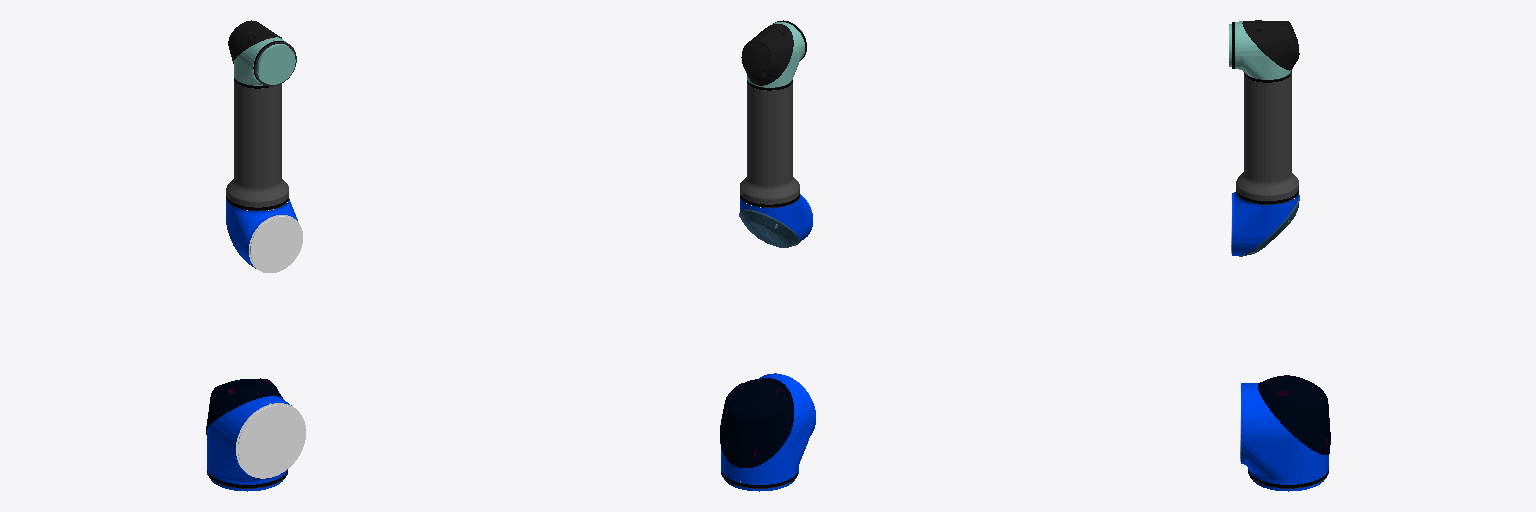
robot.urdf — rb16_900e_u:
<?xml version="1.0" ?>
<!-- =================================================================================== -->
<!-- |    This document was autogenerated by xacro from rb16_900e_u.urdf.xacro         | -->
<!-- |    EDITING THIS FILE BY HAND IS NOT RECOMMENDED                                 | -->
<!-- =================================================================================== -->
<robot name="rb16_900e_u">
  <link name="link0">
    <visual>
      <geometry>
        <mesh filename="package://rbpodo_description/meshes/rb16_900e_u/visual/link0.dae"/>
      </geometry>
    </visual>
    <collision>
      <geometry>
        <mesh filename="package://rbpodo_description/meshes/rb16_900e_u/collision/link0.stl"/>
      </geometry>
    </collision>
  </link>
  <link name="link1">
    <visual>
      <geometry>
        <mesh filename="package://rbpodo_description/meshes/rb16_900e_u/visual/link1.dae"/>
      </geometry>
    </visual>
    <collision>
      <geometry>
        <mesh filename="package://rbpodo_description/meshes/rb16_900e_u/collision/link1.stl"/>
      </geometry>
    </collision>
    <inertial>
      <origin rpy="0 0 0" xyz="0.00002146 -0.00785669 -0.04254277"/>
      <mass value="8.36480574"/>
      <inertia ixx="0.027396" ixy="-5.93e-06" ixz="-1.012e-05" iyy="0.02776248" iyz="0.00302947" izz="0.02613526"/>
    </inertial>
  </link>
  <link name="link2">
    <visual>
      <geometry>
        <mesh filename="package://rbpodo_description/meshes/rb16_900e_u/visual/link2.dae"/>
      </geometry>
    </visual>
    <collision>
      <geometry>
        <mesh filename="package://rbpodo_description/meshes/rb16_900e_u/collision/link2.stl"/>
      </geometry>
    </collision>
    <inertial>
      <origin rpy="0 0 0" xyz="-0.00001365 -0.15336597 0.14954192"/>
      <mass value="14.65108225"/>
      <inertia ixx="0.50968149" ixy="-1.346e-05" ixz="-5.604e-05" iyy="0.50447767" iyz="0.01549891" izz="0.0467351"/>
    </inertial>
  </link>
  <link name="link3">
    <visual>
      <geometry>
        <mesh filename="package://rbpodo_description/meshes/rb16_900e_u/visual/link3.dae"/>
      </geometry>
    </visual>
    <collision>
      <geometry>
        <mesh filename="package://rbpodo_description/meshes/rb16_900e_u/collision/link3.stl"/>
      </geometry>
    </collision>
    <inertial>
      <origin rpy="0 0 0" xyz="-0.00005454 0.13556427 0.21690278"/>
      <mass value="4.99600074"/>
      <inertia ixx="0.1196272" ixy="9.83e-06" ixz="2.67e-06" iyy="0.1190238" iyz="0.00299228" izz="0.00997462"/>
    </inertial>
  </link>
  <link name="link4">
    <visual>
      <geometry>
        <mesh filename="package://rbpodo_description/meshes/rb16_900e_u/visual/link4.dae"/>
      </geometry>
    </visual>
    <collision>
      <geometry>
        <mesh filename="package://rbpodo_description/meshes/rb16_900e_u/collision/link4.stl"/>
      </geometry>
    </collision>
    <inertial>
      <origin rpy="0 0 0" xyz="0.00009393 -0.11397578 0.02631456"/>
      <mass value="2.04897826"/>
      <inertia ixx="0.00268283" ixy="-8.03e-06" ixz="1.118e-05" iyy="0.00268757" iyz="0.0001404" izz="0.00213209"/>
    </inertial>
  </link>
  <link name="link5">
    <visual>
      <geometry>
        <mesh filename="package://rbpodo_description/meshes/rb16_900e_u/visual/link5.dae"/>
      </geometry>
    </visual>
    <collision>
      <geometry>
        <mesh filename="package://rbpodo_description/meshes/rb16_900e_u/collision/link5.stl"/>
      </geometry>
    </collision>
    <inertial>
      <origin rpy="0 0 0" xyz="-0.00009382 -0.02633944 0.11394822"/>
      <mass value="2.05100562"/>
      <inertia ixx="0.00268465" ixy="1.119e-05" ixz="-8.02e-06" iyy="0.00213501" iyz="0.00013799" izz="0.00269084"/>
    </inertial>
  </link>
  <link name="link6">
    <visual>
      <geometry>
        <mesh filename="package://rbpodo_description/meshes/rb16_900e_u/visual/link6.dae"/>
      </geometry>
    </visual>
    <collision>
      <geometry>
        <mesh filename="package://rbpodo_description/meshes/rb16_900e_u/collision/link6.stl"/>
      </geometry>
    </collision>
    <inertial>
      <origin rpy="0 0 0" xyz="-0.00020973 -0.09253967 -0.00029237"/>
      <mass value="0.40590103"/>
      <inertia ixx="0.00034531" ixy="5.7e-07" ixz="6.6e-07" iyy="0.00053287" iyz="-5e-08" izz="0.00034002"/>
    </inertial>
  </link>
  <link name="tcp"/>
  <joint name="base" type="revolute">
    <origin rpy="0 0 0" xyz="0 0 0.197"/>
    <parent link="link0"/>
    <child link="link1"/>
    <axis xyz="0 0 1"/>
    <limit effort="10" lower="-3.14" upper="3.14" velocity="3.14"/>
  </joint>
  <joint name="shoulder" type="revolute">
    <origin rpy="0 0 0" xyz="0 -0.1875 0"/>
    <parent link="link1"/>
    <child link="link2"/>
    <axis xyz="0 1 0"/>
    <limit effort="10" lower="-3.14" upper="3.14" velocity="3.14"/>
  </joint>
  <joint name="elbow" type="revolute">
    <origin rpy="0 0 0" xyz="0 0 0.4127"/>
    <parent link="link2"/>
    <child link="link3"/>
    <axis xyz="0 1 0"/>
    <limit effort="10" lower="-3.14" upper="3.14" velocity="3.14"/>
  </joint>
  <joint name="wrist1" type="revolute">
    <origin rpy="0 0 0" xyz="0 0.1514 0.37015"/>
    <parent link="link3"/>
    <child link="link4"/>
    <axis xyz="0 1 0"/>
    <limit effort="10" lower="-3.14" upper="3.14" velocity="3.14"/>
  </joint>
  <joint name="wrist2" type="revolute">
    <origin rpy="0 0 0" xyz="0 -0.11715 0"/>
    <parent link="link4"/>
    <child link="link5"/>
    <axis xyz="0 0 1"/>
    <limit effort="10" lower="-3.14" upper="3.14" velocity="3.14"/>
  </joint>
  <joint name="wrist3" type="revolute">
    <origin rpy="0 0 0" xyz="0 0 0.11715"/>
    <parent link="link5"/>
    <child link="link6"/>
    <axis xyz="0 1 0"/>
    <limit effort="10" lower="-3.14" upper="3.14" velocity="3.14"/>
  </joint>
  <joint name="tcp_joint" type="fixed">
    <origin rpy="0 0 0" xyz="0 -0.1153 0"/>
    <parent link="link6"/>
    <child link="tcp"/>
  </joint>
  <ros2_control name="RBPodoHardwareInterface" type="system">
    <hardware>
      <plugin>mock_components/GenericSystem</plugin>
      <param name="mock_sensor_commands">False</param>
      <param name="state_following_offset">0.0</param>
    </hardware>
    <joint name="base">
      <param name="initial_position">0.0</param>
      <param name="torque_constant">1</param>
      <command_interface name="effort"/>
      <command_interface name="velocity"/>
      <command_interface name="position"/>
      <state_interface name="position"/>
      <state_interface name="effort"/>
    </joint>
    <joint name="shoulder">
      <param name="initial_position">0.0</param>
      <param name="torque_constant">1</param>
      <command_interface name="effort"/>
      <command_interface name="velocity"/>
      <command_interface name="position"/>
      <state_interface name="position"/>
      <state_interface name="effort"/>
    </joint>
    <joint name="elbow">
      <param name="initial_position">0.0</param>
      <param name="torque_constant">1</param>
      <command_interface name="effort"/>
      <command_interface name="velocity"/>
      <command_interface name="position"/>
      <state_interface name="position"/>
      <state_interface name="effort"/>
    </joint>
    <joint name="wrist1">
      <param name="initial_position">0.0</param>
      <param name="torque_constant">1</param>
      <command_interface name="effort"/>
      <command_interface name="velocity"/>
      <command_interface name="position"/>
      <state_interface name="position"/>
      <state_interface name="effort"/>
    </joint>
    <joint name="wrist2">
      <param name="initial_position">0.0</param>
      <param name="torque_constant">1</param>
      <command_interface name="effort"/>
      <command_interface name="velocity"/>
      <command_interface name="position"/>
      <state_interface name="position"/>
      <state_interface name="effort"/>
    </joint>
    <joint name="wrist3">
      <param name="initial_position">0.0</param>
      <param name="torque_constant">1</param>
      <command_interface name="effort"/>
      <command_interface name="velocity"/>
      <command_interface name="position"/>
      <state_interface name="position"/>
      <state_interface name="effort"/>
    </joint>
  </ros2_control>
</robot>

--- Render facts (derived) ---
The picture shows the robot from 3 angles, left to right: view 1: azimuth 30°, elevation 25°; view 2: azimuth 150°, elevation 25°; view 3: azimuth 270°, elevation 25°; orthographic projection.
Robot: rb16_900e_u — 8 links, 7 joints (6 revolute, 1 fixed); root link link0; default pose: all joints at 0.
Links seen in each view (by area): view 1: link3, link1; view 2: link3, link1; view 3: link3, link1.
Boxes of the visible links, <box> form: link3: <box>226,20,302,272</box>; link1: <box>206,378,305,491</box>; link3: <box>739,20,812,247</box>; link1: <box>720,373,815,491</box>; link3: <box>1229,20,1299,256</box>; link1: <box>1240,375,1330,491</box>.
Bounding box of the posed robot: 0.153 × 0.19 × 0.9368 m (x, y, z).
2 mesh visuals loaded from 7 distinct referenced files (2 Collada DAE); not drawn: 5 (reference not matched to a file when rendering).